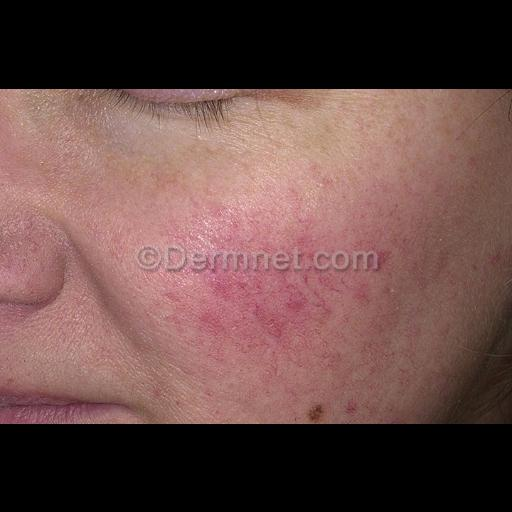Skin_Lesion: (178, 222, 286, 310), (298, 396, 328, 424), (338, 394, 366, 424), (264, 318, 290, 344), (106, 228, 128, 254), (364, 249, 390, 267), (354, 284, 372, 308), (396, 231, 412, 247), (302, 273, 312, 287)
